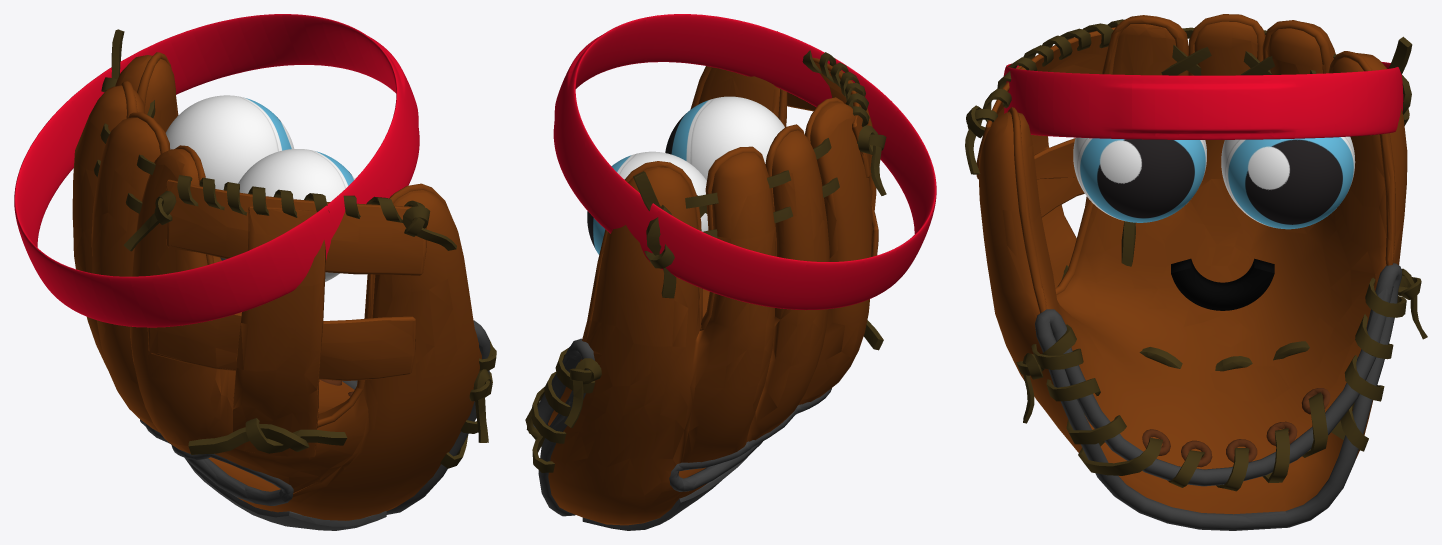
File: guantebanda.glb
3 renders of one model, left to right at view 1: azimuth 30°, elevation 25°; view 2: azimuth 150°, elevation 25°; view 3: azimuth 270°, elevation 25°, orthographic. The views are drawn at different scales.
Parts seen in each view (by area): view 1: Baseball Glove, Torus.001, Sphere.001, Sphere.002; view 2: Baseball Glove, Torus.001, Sphere.002, Sphere.001; view 3: Baseball Glove, Torus.001, Sphere.001, Sphere.002, Circle.001.
Boxes of the visible parts, bbox=[...] form: Baseball Glove: bbox=[72, 29, 496, 530]; Torus.001: bbox=[14, 14, 419, 327]; Sphere.001: bbox=[165, 95, 294, 190]; Sphere.002: bbox=[238, 149, 354, 281]; Baseball Glove: bbox=[525, 31, 886, 530]; Torus.001: bbox=[553, 14, 936, 310]; Sphere.002: bbox=[665, 96, 784, 180]; Sphere.001: bbox=[587, 151, 708, 254]; Baseball Glove: bbox=[965, 14, 1427, 530]; Torus.001: bbox=[1003, 61, 1403, 139]; Sphere.001: bbox=[1221, 136, 1355, 229]; Sphere.002: bbox=[1073, 137, 1206, 222]; Circle.001: bbox=[1171, 258, 1274, 310].
Size of the model in its own units: 1.24 by 1.46 by 1.33.
Materials: 7 (1 with a texture image).
